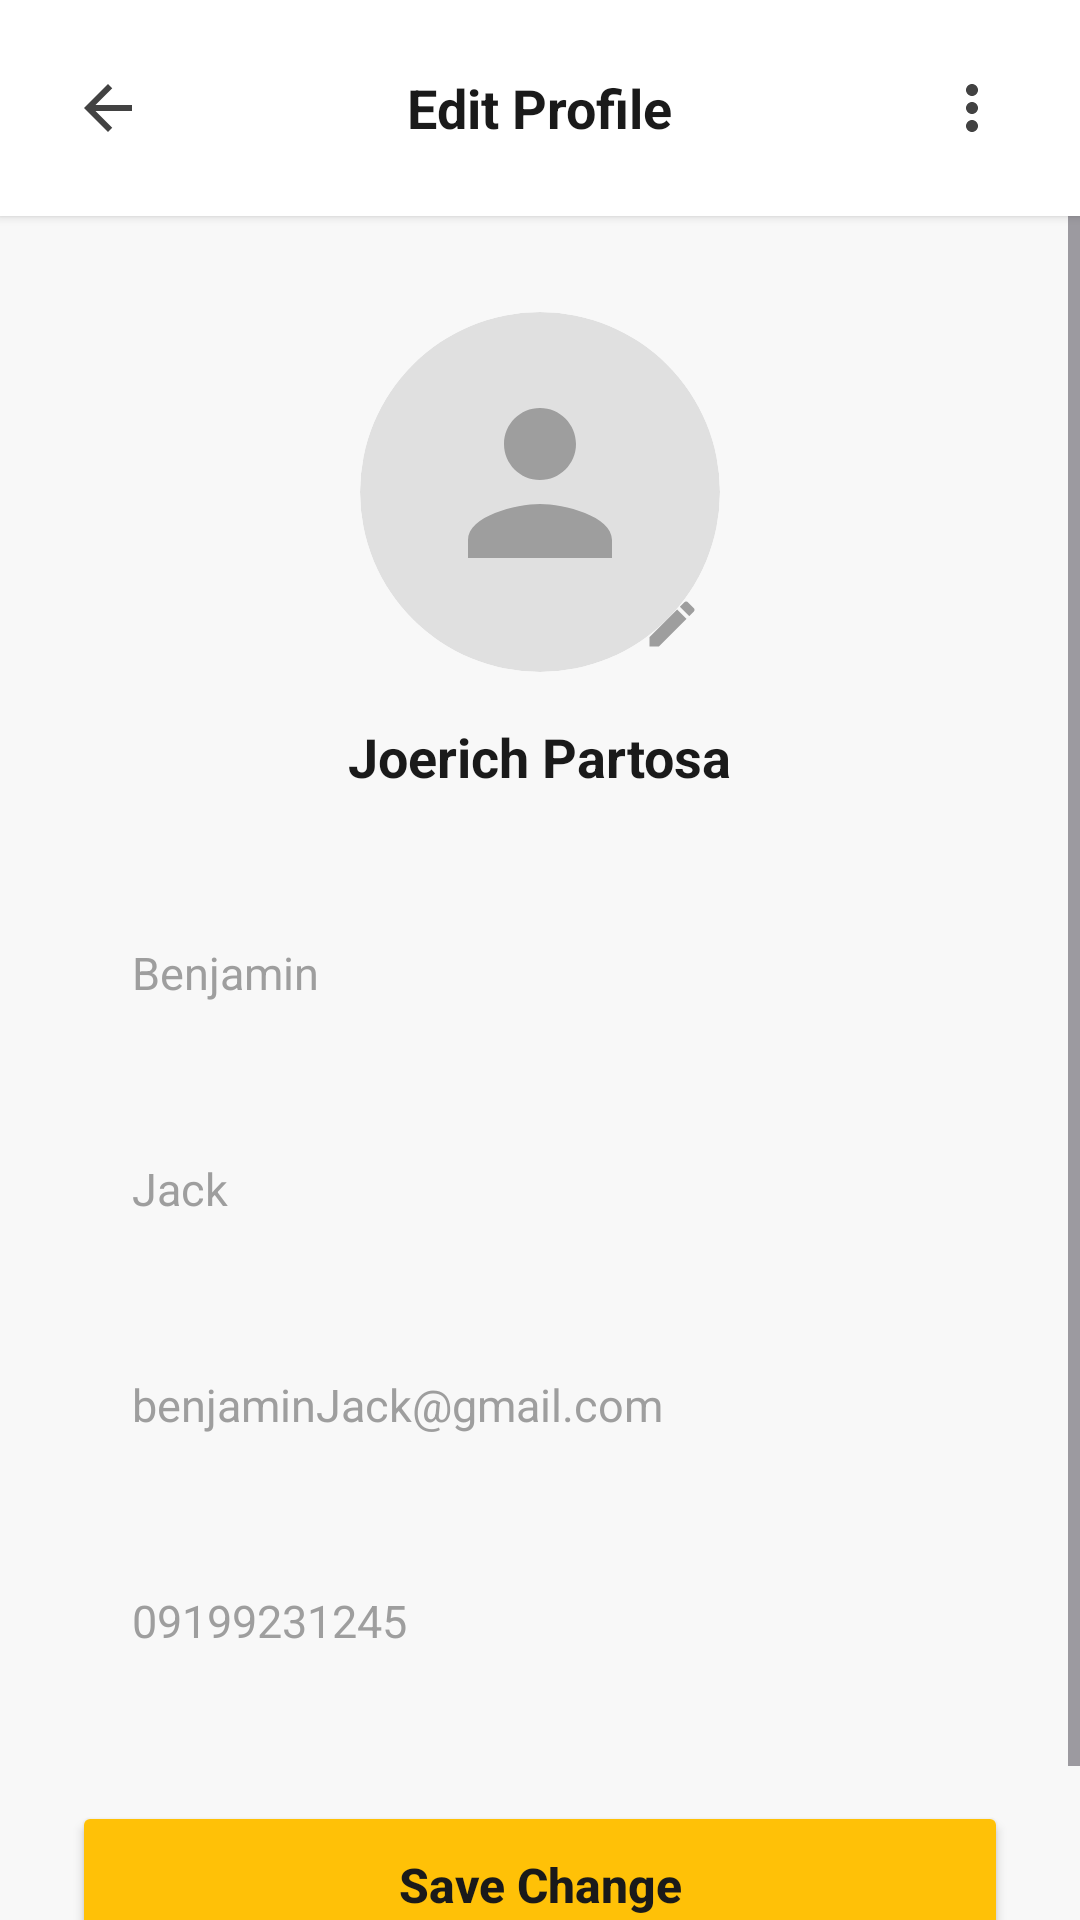

Icons on this 1080×1920 Android screen, each with its box as [x1,y1,x2,y2]:
Back: [84,84,132,132]
Edit Photo: [624,576,699,651]
Menu: [966,84,978,132]
